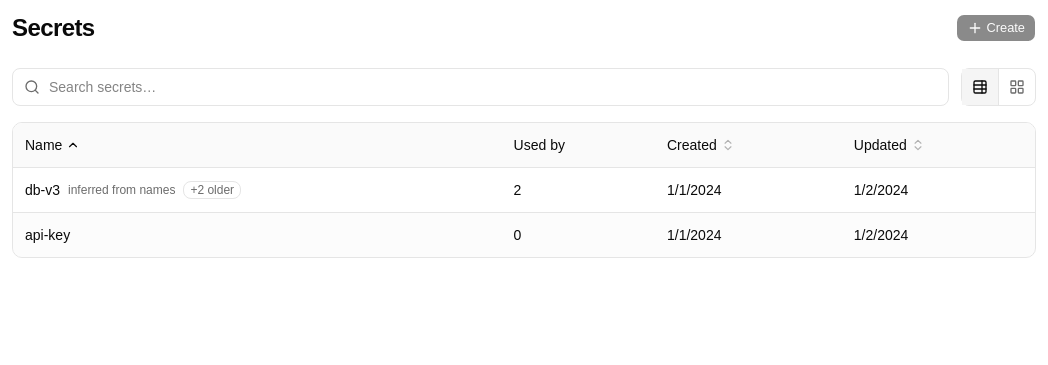
Test case: SecretList › loads a group's older versions beneath its newest on request
Expected: the text "inferred from names" is shown, [68,182,175,198]
Expected: the column heading "Used by" is shown, [502,123,655,168]
Click the button "+2 older".
click(212, 190)  # box [183,181,241,199]
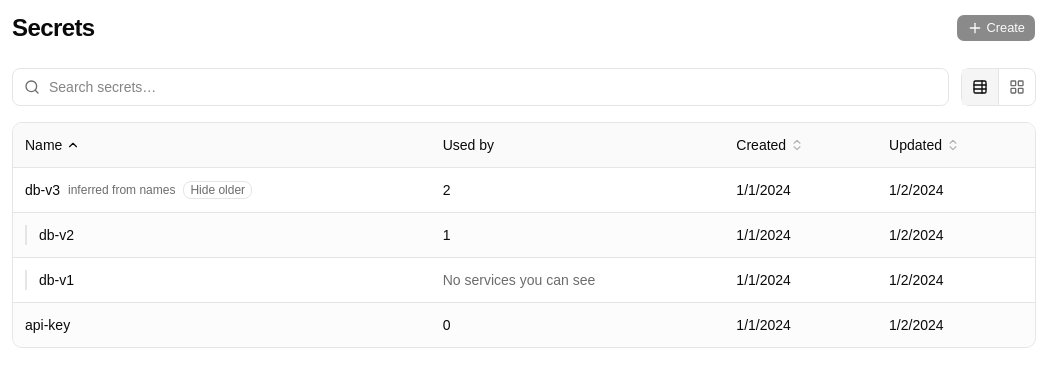
Expected: the row does not show "No services you can see"
Result: the text "db-v1" is shown at [25,270,74,290]
Result: the row "db-v1 No services you can see 1/1/2024 1/2/2024" is shown at [13,258,1035,302]
